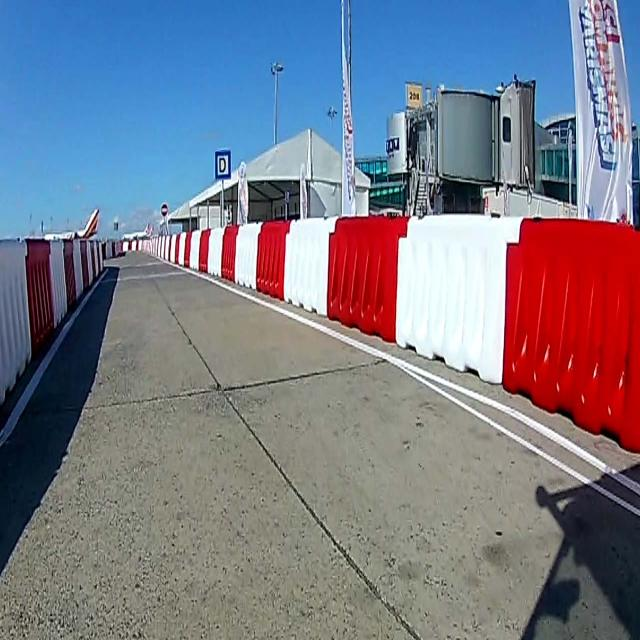durak: (214, 150, 232, 181)
girisyok: (161, 203, 168, 217)
